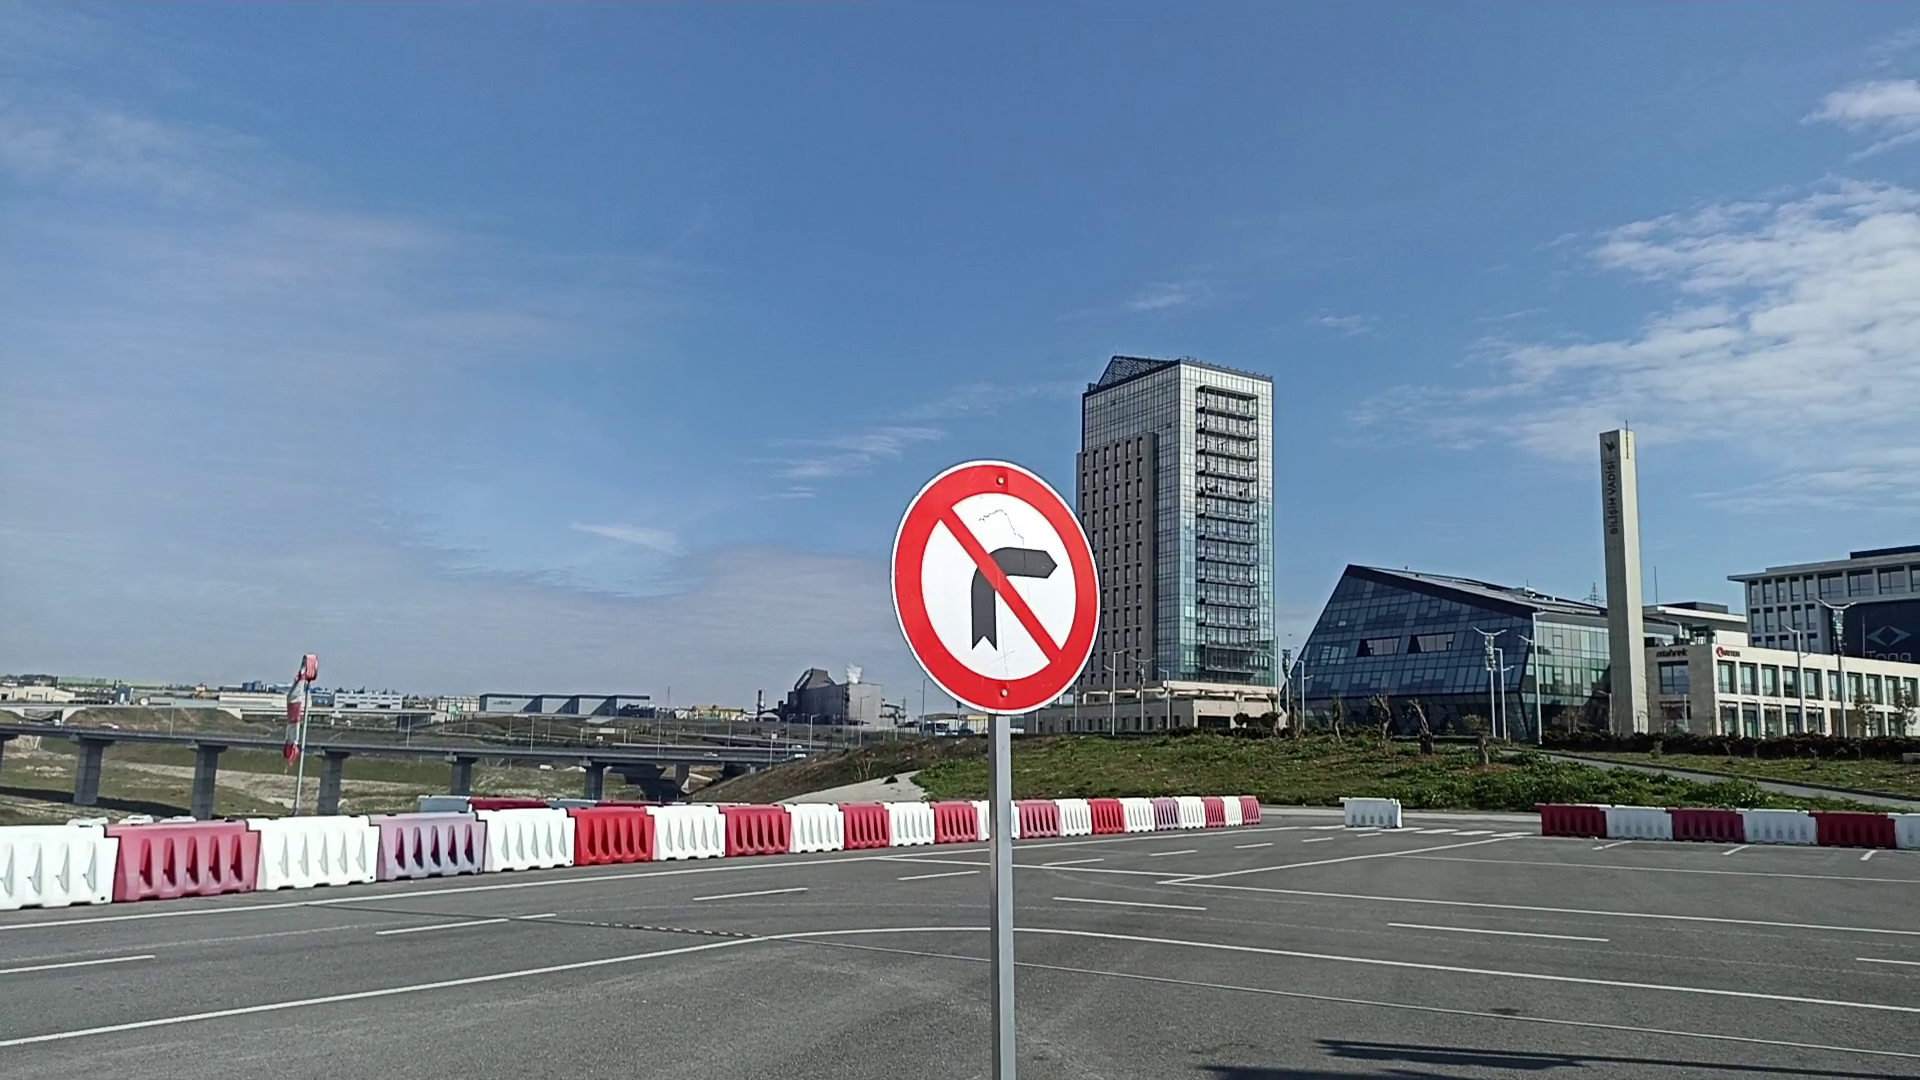noleftturn: (886, 454, 1105, 719)
